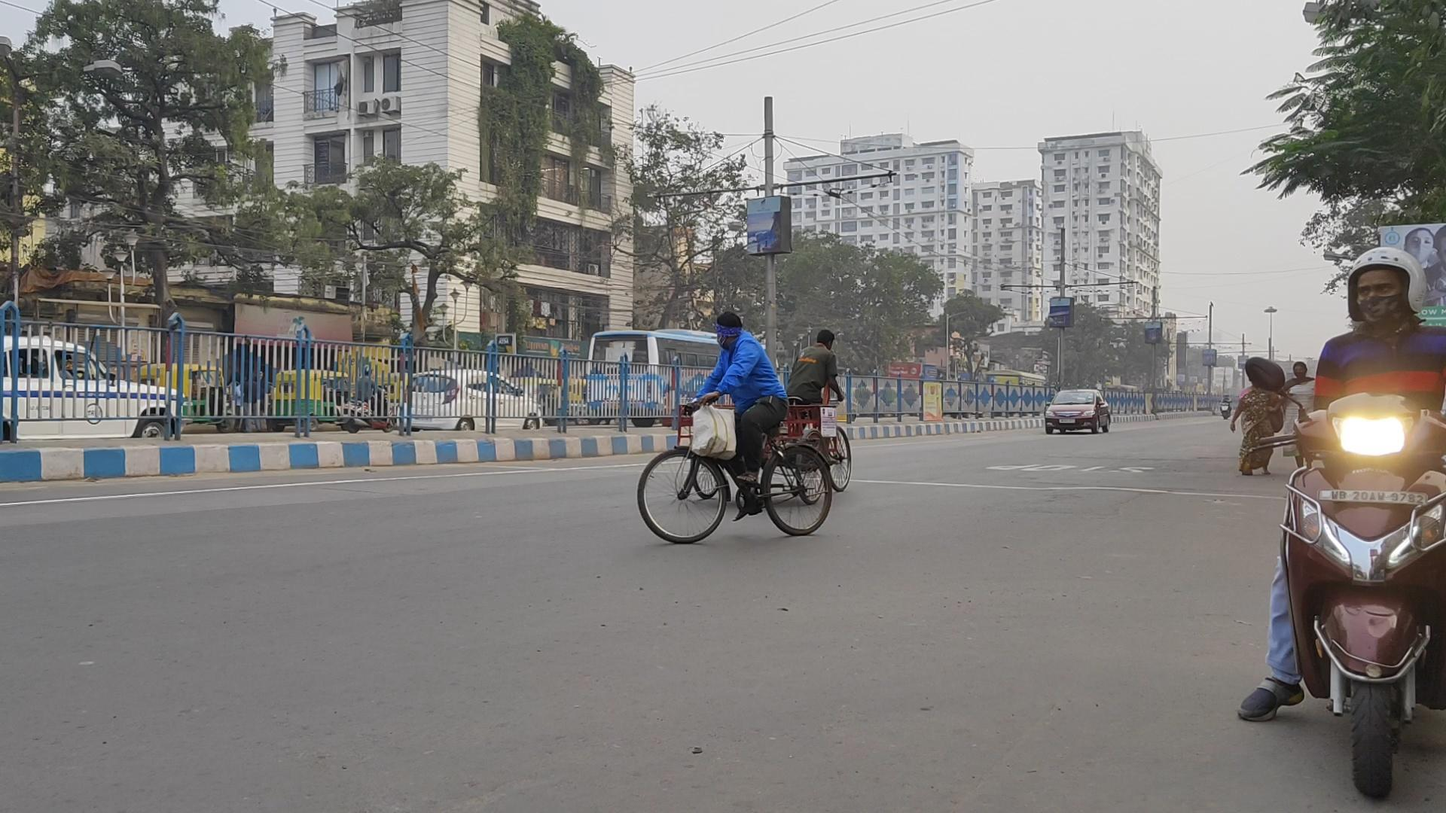bike: (1240, 247, 1446, 801), (637, 312, 832, 545), (1219, 392, 1232, 420)
car: (1045, 389, 1111, 434)
